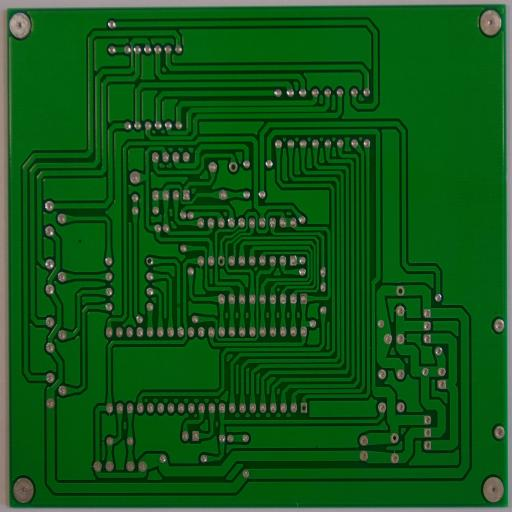missing_hole: (228, 160, 240, 174), (299, 401, 309, 415), (395, 284, 406, 296), (144, 255, 154, 267), (216, 255, 226, 267)
